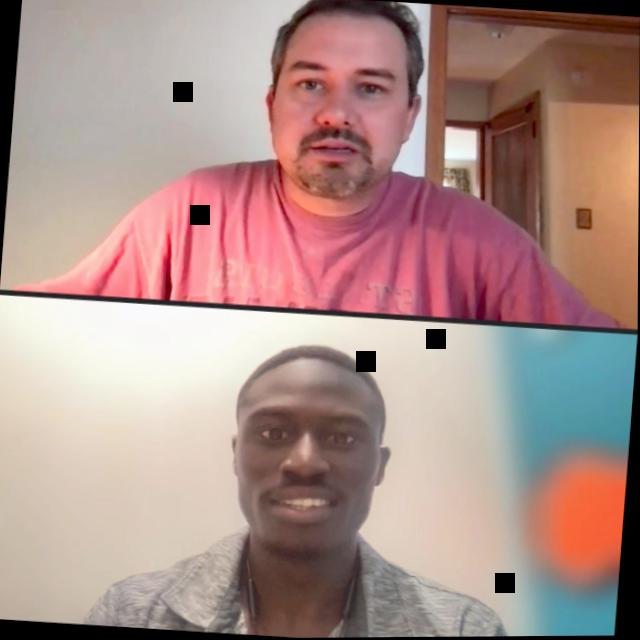NO-Mask: (223, 341, 396, 564), (257, 0, 427, 205)
